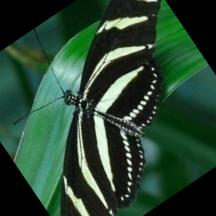butterfly: (61, 0, 162, 216)
